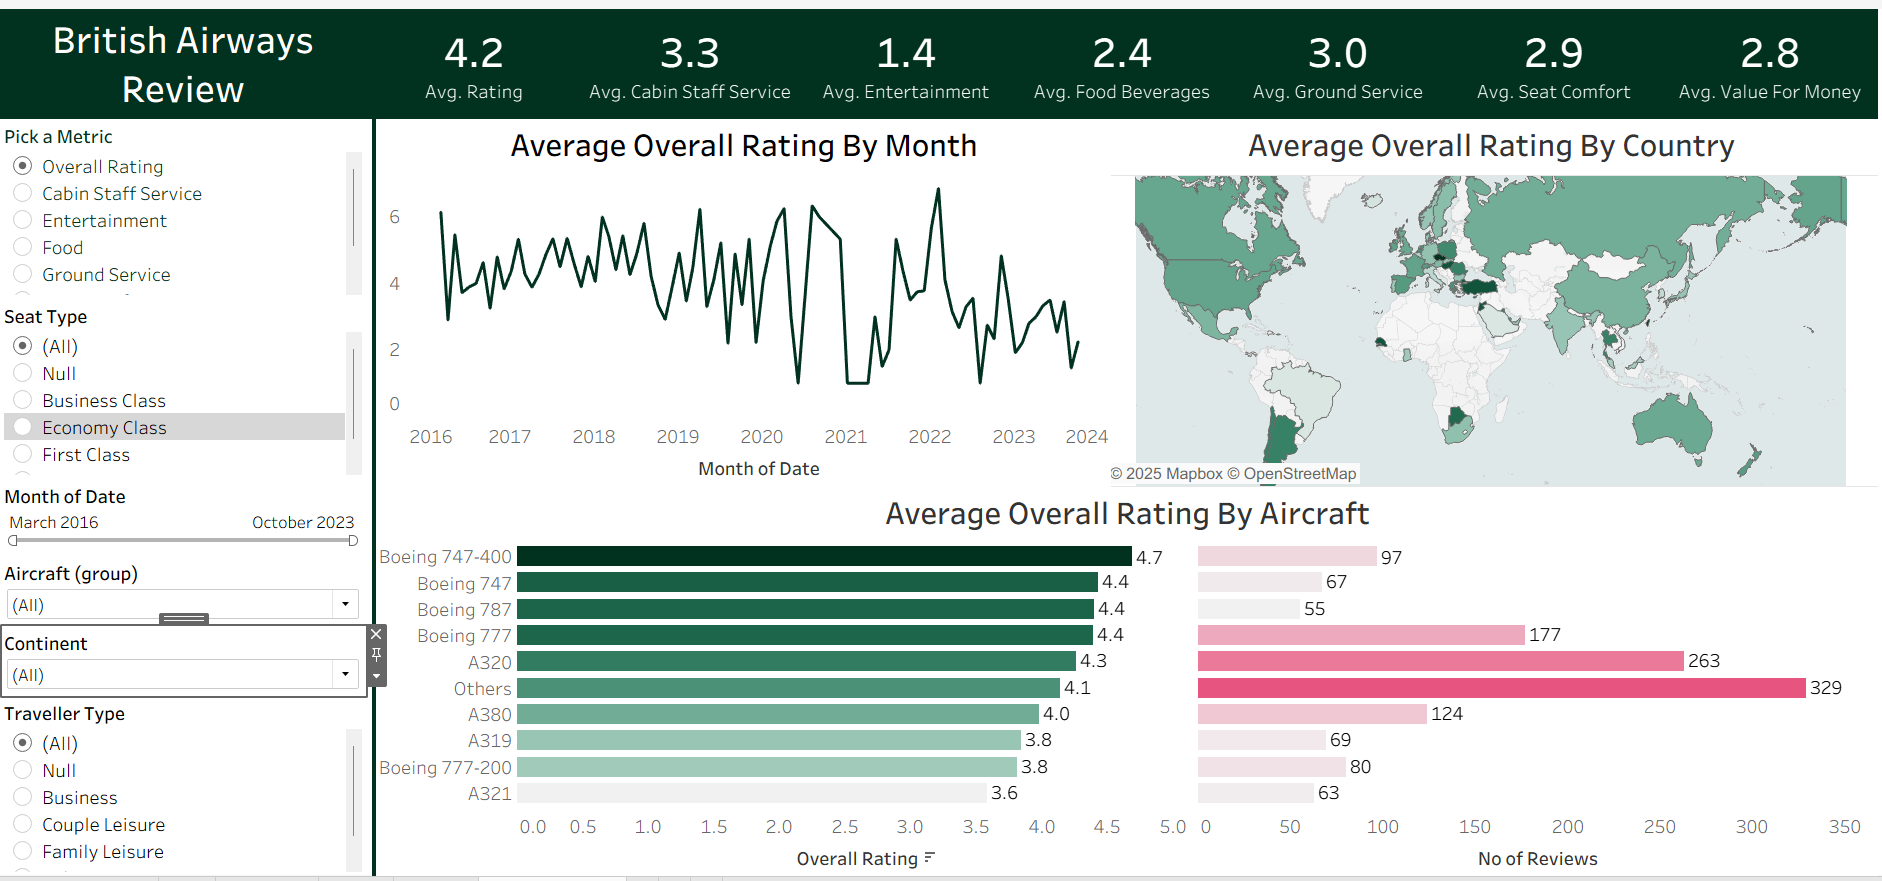

Layout of this report page (visuals, bound fields, positions):
{"tool":"tableau","page":{"name":"Dashboard 1","canvas":[1000,1000],"units":"permille","ordinal":0},"visuals":[{"type":"text","box":[0,0,194.4,127]},{"type":"worksheet","title":"Summary","mark":"Automatic","box":[194.4,0,803.6,127]},{"type":"parameter","param":"[Parameters].[Parameter 1]","box":[0,127,194.4,207.8]},{"type":"blank","box":[197.7,127,1.9,876.4]},{"type":"worksheet","title":"Month","mark":"Automatic","rows":["Calculation_1773855310204985344"],"cols":["date"],"box":[200.3,127,390.2,424.9]},{"type":"worksheet","title":"Map","mark":"Automatic","box":[586.5,127,411.5,424.9]},{"type":"filter","title":"Summary","param":"[federated.0rkqzyp16zekk7171mc340s91riu].[none:seat_type:nk]","box":[0,334.9,194.4,207.8]},{"type":"filter","title":"Summary","param":"[federated.0rkqzyp16zekk7171mc340s91riu].[tmn:date:qk]","box":[0,542.7,194.4,88.9]},{"type":"worksheet","title":"Aircraft","mark":"Automatic","cols":["Calculation_1773855310204985344","ba_reviews.csv_918E6BD9BEED49F281F4FB1F9196863F"],"box":[200.3,552,797.8,450.4]},{"type":"filter","title":"Summary","param":"[federated.0rkqzyp16zekk7171mc340s91riu].[Aircraft (group)]","box":[0,631.6,194.4,80.8]},{"type":"filter","title":"Summary","param":"[federated.0rkqzyp16zekk7171mc340s91riu].[none:Continent:nk]","box":[0,712.5,194.4,80.8]},{"type":"filter","title":"Summary","param":"[federated.0rkqzyp16zekk7171mc340s91riu].[none:traveller_type:nk]","box":[0,793.3,194.4,207.8]}]}

Visuals, with their boxes on the dashboard's canvas, which has no fixed pixel size, in thousandths of its width and height (x1, y1, x2, y2). These are canvas units, not pixel positions in the 1882x881 screenshot, which may show the page scaled, cropped or inside an application window:
text: <bbox>0, 0, 194, 127</bbox>
"Summary" worksheet: <bbox>194, 0, 998, 127</bbox>
parameter: <bbox>0, 127, 194, 335</bbox>
blank: <bbox>198, 127, 200, 1003</bbox>
"Month" worksheet: <bbox>200, 127, 590, 552</bbox>
"Map" worksheet: <bbox>586, 127, 998, 552</bbox>
"Summary" filter: <bbox>0, 335, 194, 543</bbox>
"Summary" filter: <bbox>0, 543, 194, 632</bbox>
"Aircraft" worksheet: <bbox>200, 552, 998, 1002</bbox>
"Summary" filter: <bbox>0, 632, 194, 712</bbox>
"Summary" filter: <bbox>0, 712, 194, 793</bbox>
"Summary" filter: <bbox>0, 793, 194, 1001</bbox>
